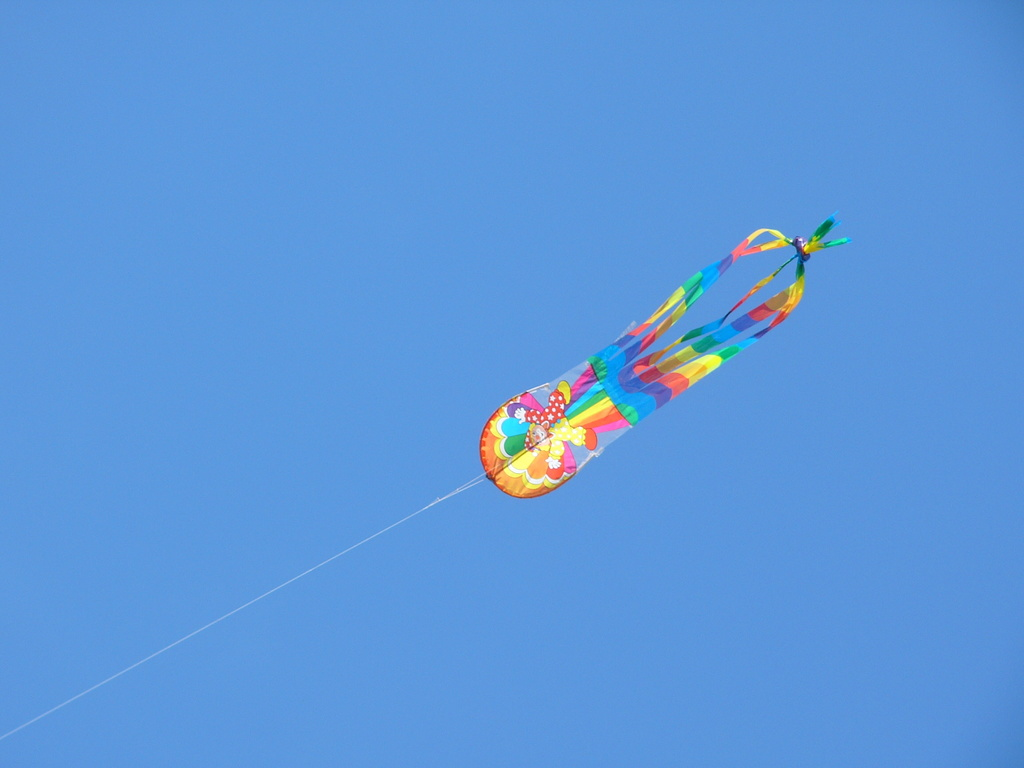kite: (470, 198, 851, 507)
